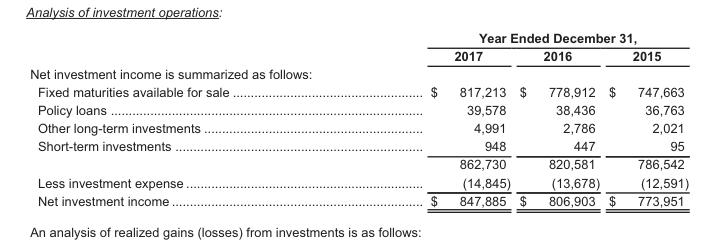table: (29, 28, 688, 208)
table column: (29, 28, 329, 208), (329, 28, 514, 208), (514, 28, 603, 208), (603, 28, 688, 208)
table column header: (29, 28, 688, 64)
table projected row header: (29, 64, 688, 82)
table row: (29, 154, 688, 173), (29, 28, 688, 46), (29, 46, 688, 64), (29, 64, 688, 82), (29, 82, 688, 100), (29, 100, 688, 118), (29, 118, 688, 136), (29, 136, 688, 154), (29, 173, 688, 191), (29, 191, 688, 208)
table spanning cell: (329, 28, 688, 46)
